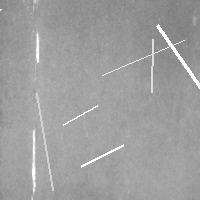scratches: (97, 35, 189, 80), (152, 20, 200, 92), (31, 88, 57, 195), (76, 140, 128, 171), (58, 100, 102, 129), (25, 126, 41, 199), (147, 34, 158, 97), (31, 30, 42, 66), (0, 0, 5, 15)
